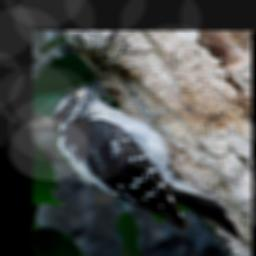Woodpecker: (47, 76, 244, 239)
